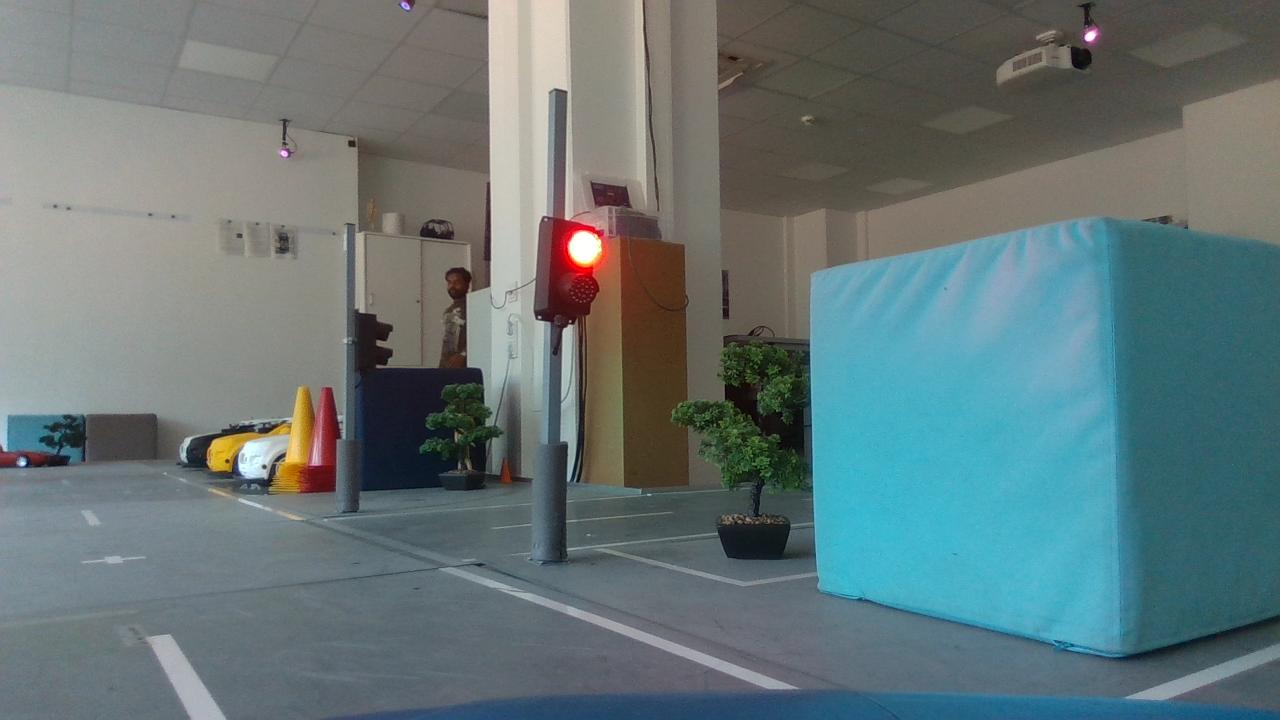traffic_light_red: (512, 199, 612, 337)
